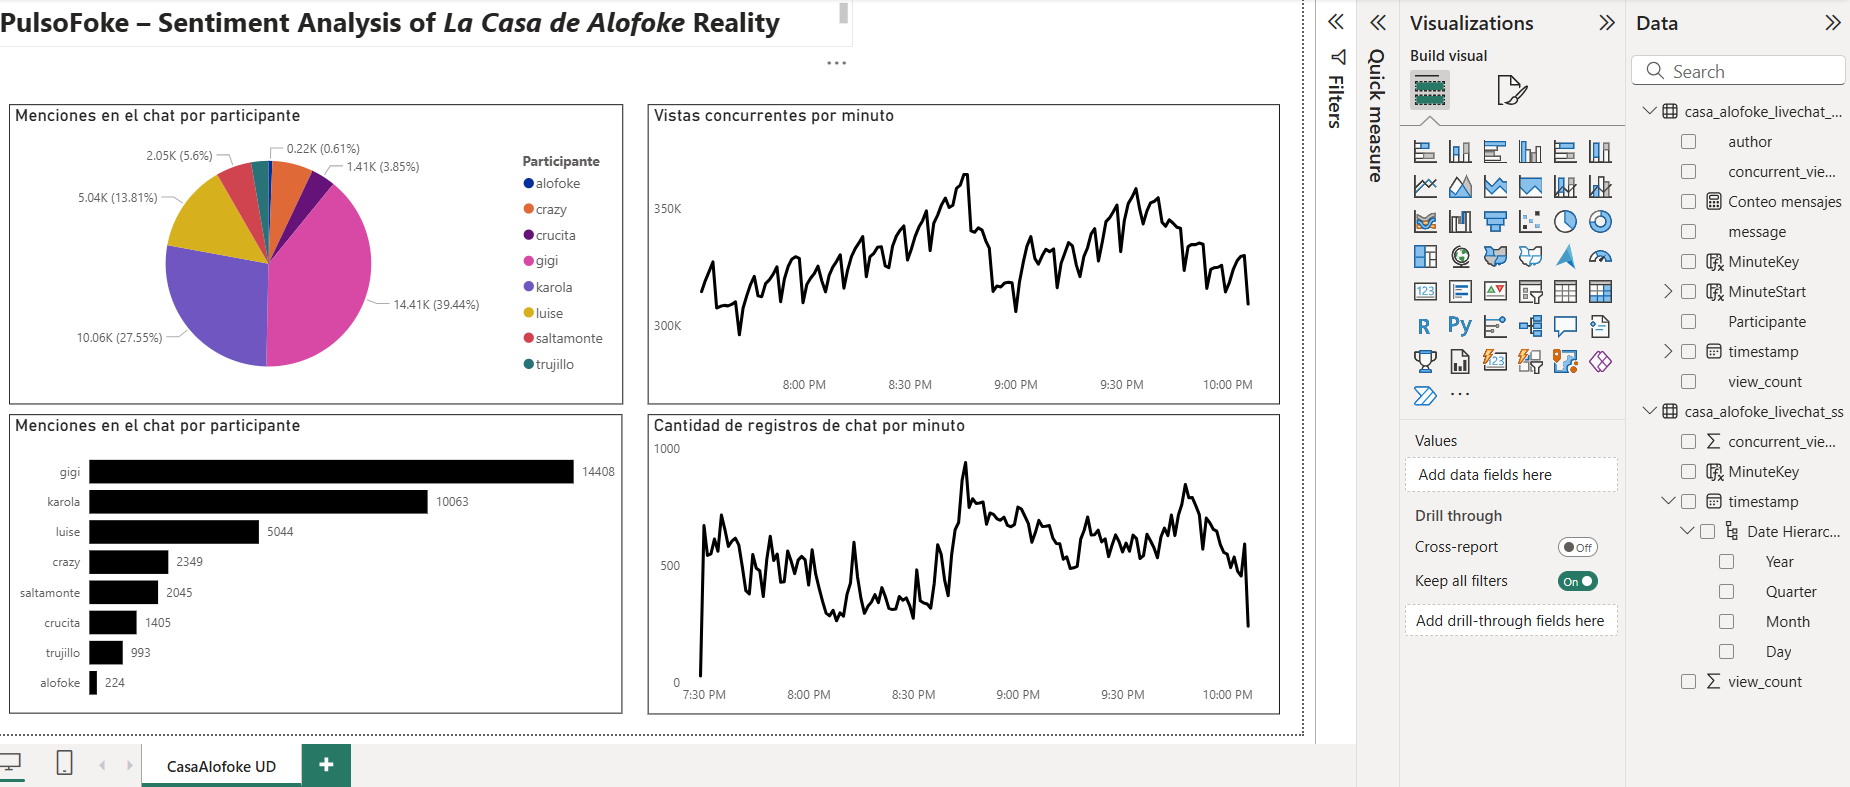

The page's visual inventory and layout, read from the dashboard file:
{"tool":"powerbi","page":{"name":"CasaAlofoke UD","canvas":[1280,720],"ordinal":0},"visuals":[{"type":"pieChart","title":"Menciones en el chat por participante","fields":{"Y":["casa_alofoke_livechat_data.message"],"Series":["casa_alofoke_livechat_data.Participante"]},"box":[14.7,103.9,600.4,293.5],"z":0},{"type":"lineChart","title":"Vistas concurrentes por minuto","fields":{"Category":["casa_alofoke_livechat_ss.timestamp"],"Y":["casa_alofoke_livechat_ss.concurrent_viewers"]},"box":[639.5,103.9,618.8,293.5],"z":1000},{"type":"barChart","title":"Menciones en el chat por participante","fields":{"Category":["casa_alofoke_livechat_data.Participante"],"Y":["casa_alofoke_livechat_data.message"]},"box":[15,407,600,293],"z":2000},{"type":"lineChart","title":"Cantidad de registros de chat por minuto","fields":{"Y":["casa_alofoke_livechat_data.Conteo mensajes"],"Category":["casa_alofoke_livechat_data.MinuteStart"]},"box":[639.5,407.2,618.8,293.5],"z":3000},{"type":"textbox","box":[0,0,840.1,47.7],"z":3001}]}

Visuals, with their boxes on the page's 1280x720 design canvas (x1, y1, x2, y2). These are canvas units, not pixel positions in the 1850x787 screenshot, which may show the page scaled, cropped or inside an application window:
"Menciones en el chat por participante" pieChart: left=15, top=104, right=615, bottom=397
"Vistas concurrentes por minuto" lineChart: left=640, top=104, right=1258, bottom=397
"Menciones en el chat por participante" barChart: left=15, top=407, right=615, bottom=700
"Cantidad de registros de chat por minuto" lineChart: left=640, top=407, right=1258, bottom=701
textbox: left=0, top=0, right=840, bottom=48
